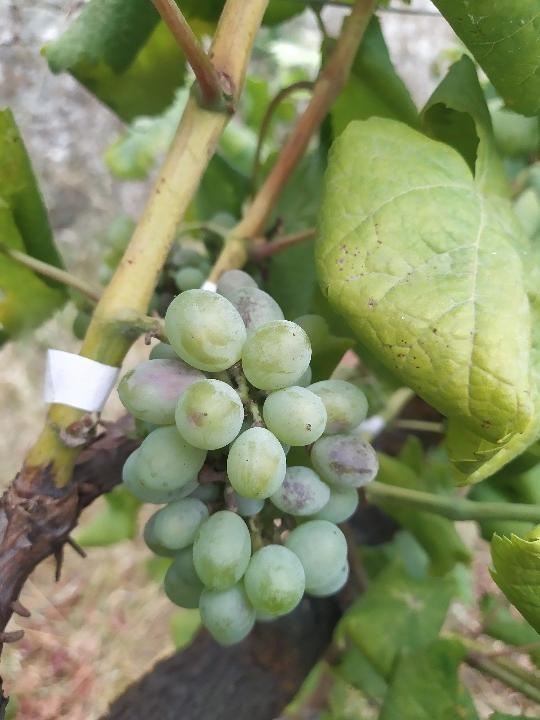grape: (114, 265, 382, 651)
